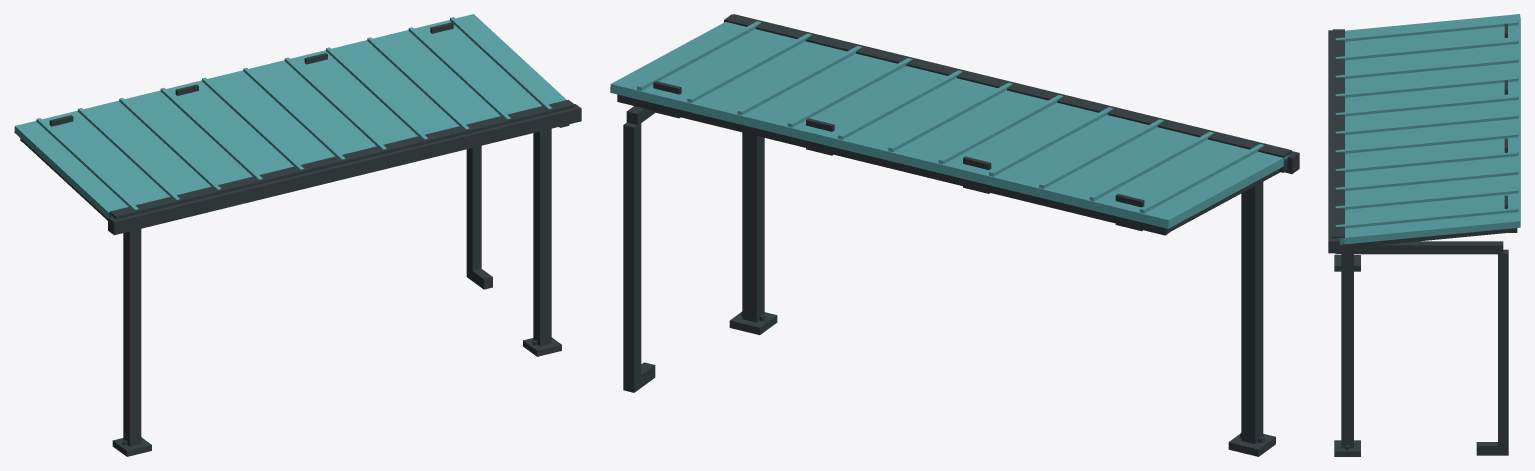
Rendered from yun_storefront_canopy_v05_scale_r2.glb.
3 renders of one model, left to right at view 1: azimuth 30°, elevation 25°; view 2: azimuth 150°, elevation 25°; view 3: azimuth 270°, elevation 25°, orthographic. The views are drawn at different scales.
Parts seen in each view (by area): view 1: Canopy_RoofSheet, RainGutter, Frame_FrontBeam, SupportPost_L, SupportPost_R, Downspout_R_Main, RoofRidge_03, RoofRidge_00, RoofRidge_05, RoofRidge_06, RoofRidge_09, RoofRidge_07 (+5 smaller); view 2: Canopy_RoofSheet, SupportPost_L, Frame_FrontBeam, Downspout_R_Main, Frame_WallLedger, SupportPost_R, RoofRidge_00, RoofRidge_04, RoofRidge_05, RoofRidge_07, RoofRidge_08, RoofRidge_01 (+5 smaller); view 3: Canopy_RoofSheet, Frame_FrontBeam, SupportPost_R, Downspout_R_Main, Downspout_R_Upper, RainGutter, RoofRidge_09, RoofRidge_02, RoofRidge_05, RoofRidge_08, RoofRidge_03, RoofRidge_01 (+9 smaller).
Boxes of the visible parts, x1,y1,x2,y2 form: Canopy_RoofSheet: (14,14,566,218); RainGutter: (108,104,581,235); Frame_FrontBeam: (109,99,574,219); SupportPost_L: (123,229,141,446); SupportPost_R: (533,128,551,346); Downspout_R_Main: (466,145,481,276); RoofRidge_03: (160,88,262,179); RoofRidge_00: (36,118,138,210); RoofRidge_05: (243,67,345,159); RoofRidge_06: (284,57,386,149); RoofRidge_09: (408,27,510,119); RoofRidge_07: (326,47,428,139); Canopy_RoofSheet: (610,22,1290,228); SupportPost_L: (1241,182,1263,443); Frame_FrontBeam: (725,14,1291,172); Downspout_R_Main: (623,122,641,388); Frame_WallLedger: (617,94,1169,235); SupportPost_R: (742,132,764,322); RoofRidge_00: (1139,144,1264,213); RoofRidge_04: (938,95,1063,164); RoofRidge_05: (888,82,1012,151); RoofRidge_07: (787,58,912,127); RoofRidge_08: (737,46,861,115); RoofRidge_01: (1089,131,1213,201); Canopy_RoofSheet: (1334,14,1520,244); Frame_FrontBeam: (1332,29,1344,249); SupportPost_R: (1341,254,1353,448); Downspout_R_Main: (1498,249,1508,452); Downspout_R_Upper: (1335,241,1503,254); RainGutter: (1328,30,1339,253); RoofRidge_09: (1335,189,1518,209); RoofRidge_02: (1335,58,1518,78); RoofRidge_05: (1335,114,1518,134); RoofRidge_08: (1335,170,1518,190); RoofRidge_03: (1335,77,1518,97); RoofRidge_01: (1335,39,1518,60).
Size of the model in its own units: 3.11 by 1.68 by 1.2.
